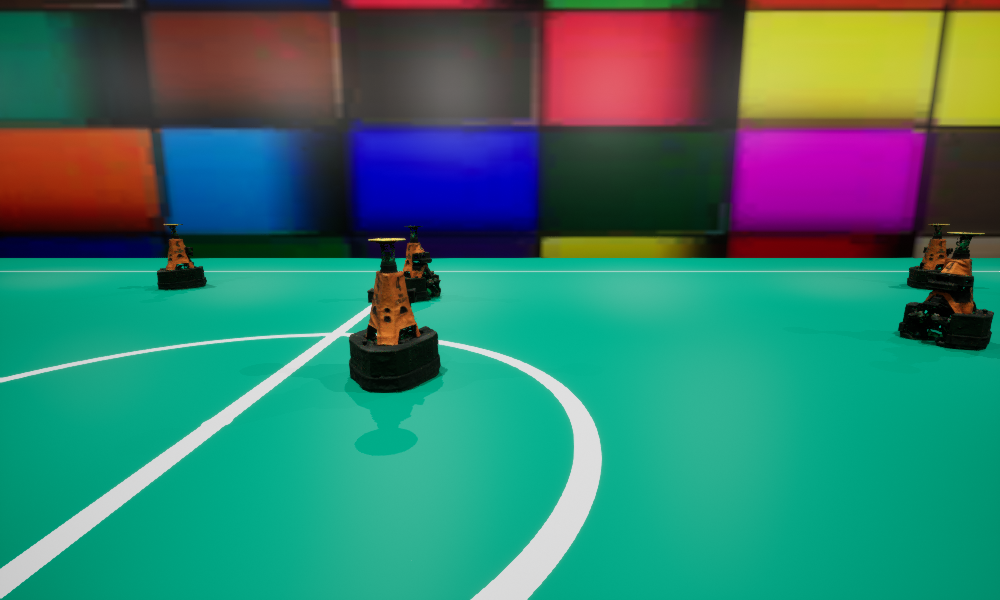0 orange robot TechUnited: (349, 238, 440, 392), (898, 232, 993, 349), (157, 224, 206, 289), (907, 224, 952, 289), (403, 225, 440, 301)
